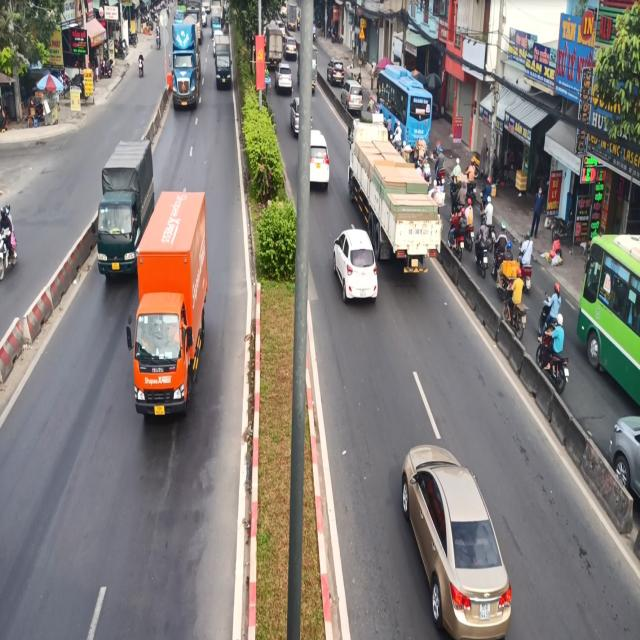car: (395, 428, 511, 640), (334, 223, 384, 323)
truck: (132, 181, 208, 421), (96, 138, 152, 284), (167, 14, 205, 123)
